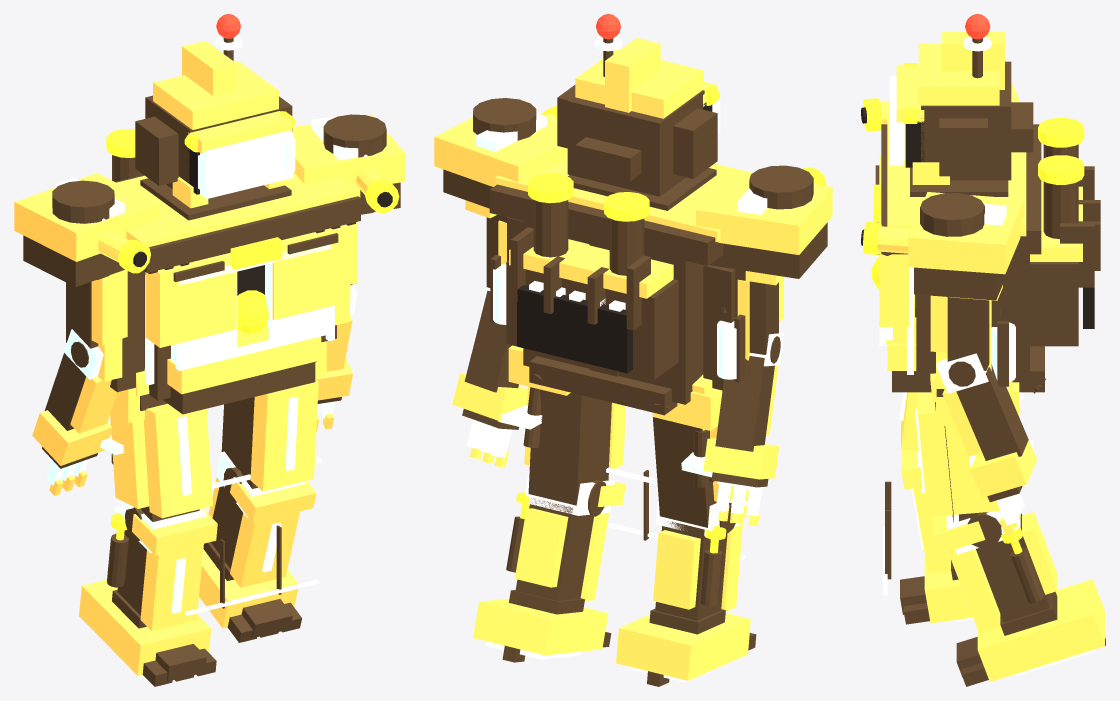
File: mech_suit.glb
3 renders of one model, left to right at view 1: azimuth 30°, elevation 25°; view 2: azimuth 150°, elevation 25°; view 3: azimuth 270°, elevation 25°, orthographic. The views are drawn at different scales.
Parts seen in each view (by area): view 1: Pec-1.001, LThighPlate, RThighPlate, TorsoYokePlate, Pec1.0, LPauldron, TorsoYoke.001, LFoot, HelmCap, LShinGuard, RPauldron, AbPlate0.001 (+53 smaller); view 2: RThigh, Helm, PackGrill.001, LPauldron, LFoot, RFoot, RPauldron, Pack.001, Chassis, TorsoYoke.001, LThigh, TorsoBelt.001 (+46 smaller); view 3: RFoot, RPauldron, Chassis, Pack.001, Helm, RFore, HelmCap, RThighPlate, TorsoYokePlate, Cheek1.0, RShin, TorsoYoke.001 (+54 smaller).
Part boxes in pixels (bbox=[...]): Pec-1.001: bbox=[145, 253, 236, 347]; LThighPlate: bbox=[143, 403, 212, 518]; RThighPlate: bbox=[250, 379, 318, 491]; TorsoYokePlate: bbox=[117, 172, 360, 246]; Pec1.0: bbox=[272, 224, 350, 319]; LPauldron: bbox=[14, 173, 158, 261]; TorsoYoke.001: bbox=[115, 175, 360, 272]; LFoot: bbox=[79, 579, 211, 675]; HelmCap: bbox=[153, 61, 278, 129]; LShinGuard: bbox=[140, 543, 203, 630]; RPauldron: bbox=[292, 114, 405, 188]; AbPlate0.001: bbox=[167, 336, 320, 394]; RThigh: bbox=[528, 388, 611, 505]; Helm: bbox=[567, 90, 704, 196]; PackGrill.001: bbox=[517, 285, 632, 373]; LPauldron: bbox=[696, 171, 832, 254]; LFoot: bbox=[616, 613, 750, 680]; RFoot: bbox=[473, 598, 608, 655]; RPauldron: bbox=[434, 117, 567, 186]; Pack.001: bbox=[506, 260, 678, 379]; Chassis: bbox=[523, 221, 703, 404]; TorsoYoke.001: bbox=[489, 184, 723, 265]; LThigh: bbox=[653, 417, 716, 527]; TorsoBelt.001: bbox=[529, 356, 677, 415]; RFoot: bbox=[977, 579, 1104, 681]; RPauldron: bbox=[908, 192, 1024, 274]; Chassis: bbox=[916, 254, 1029, 390]; Pack.001: bbox=[1030, 262, 1078, 346]; Helm: bbox=[921, 61, 1011, 180]; RFore: bbox=[956, 364, 1028, 460]; HelmCap: bbox=[918, 43, 999, 105]; RThighPlate: bbox=[917, 392, 952, 516]; TorsoYokePlate: bbox=[887, 117, 1026, 236]; Cheek1.0: bbox=[939, 118, 987, 176]; RShin: bbox=[976, 513, 1049, 622]; TorsoYoke.001: bbox=[881, 124, 1041, 254].
Size of the model in its own units: 14.59 by 24.34 by 8.45.
